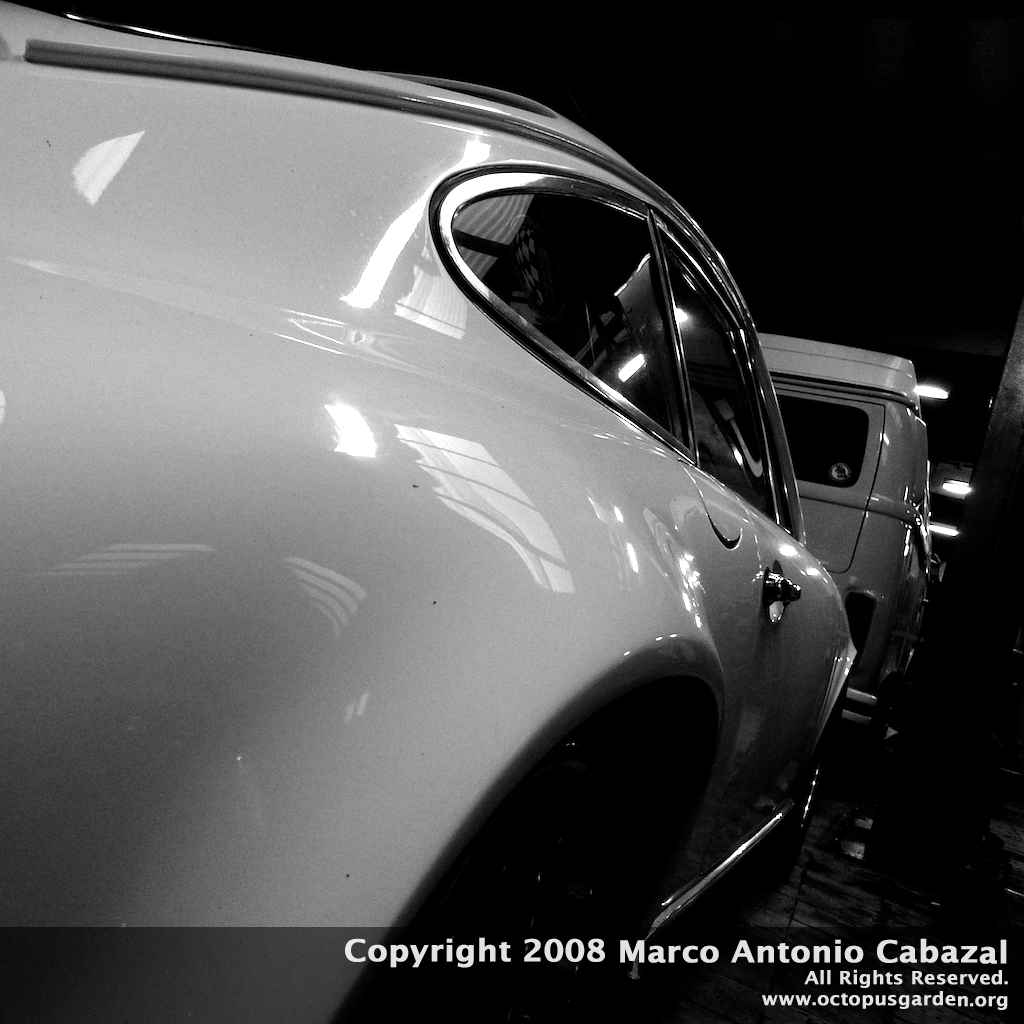Car: (0, 0, 869, 1022), (762, 348, 954, 803)
